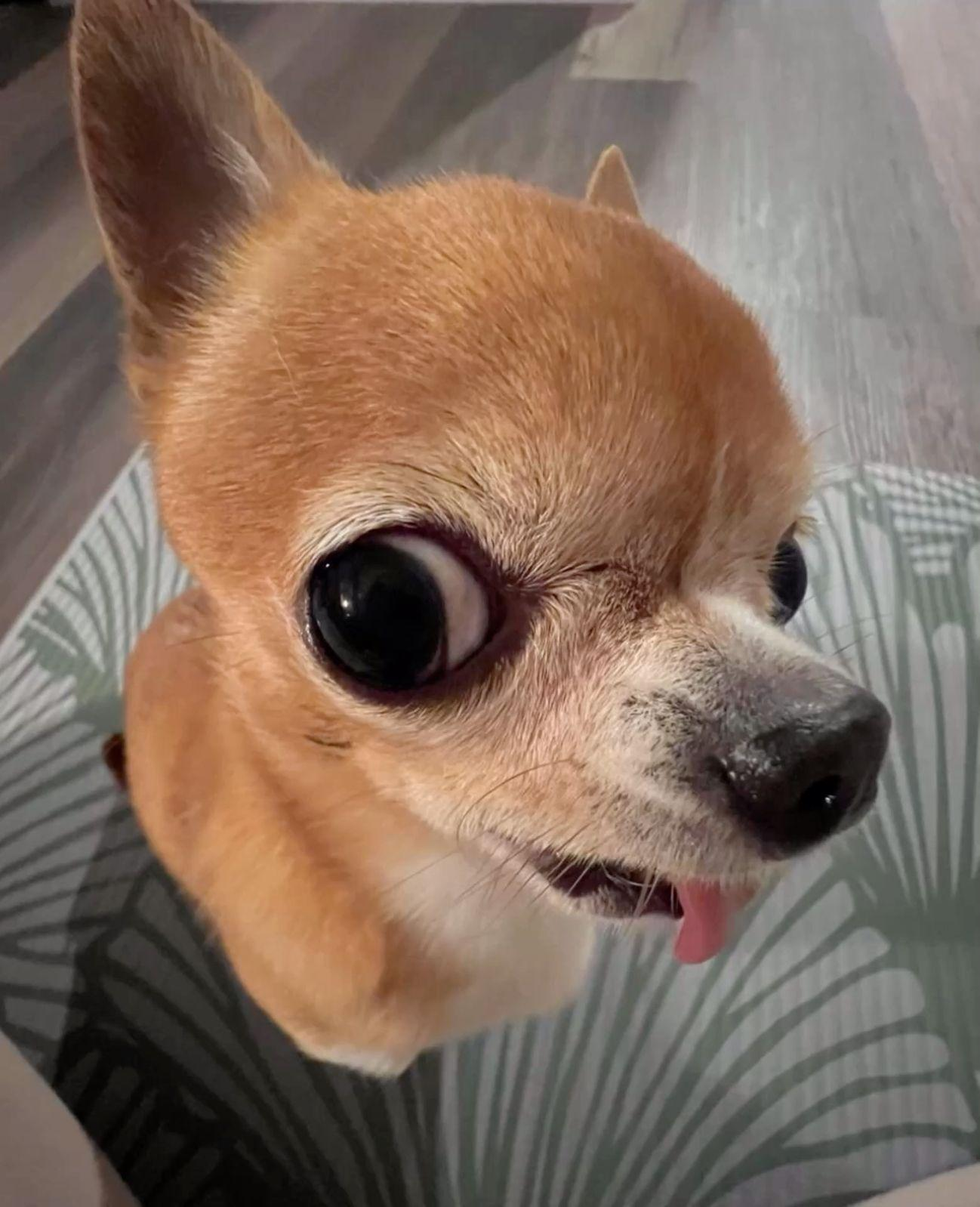adult_dog: (67, 0, 895, 1080)
